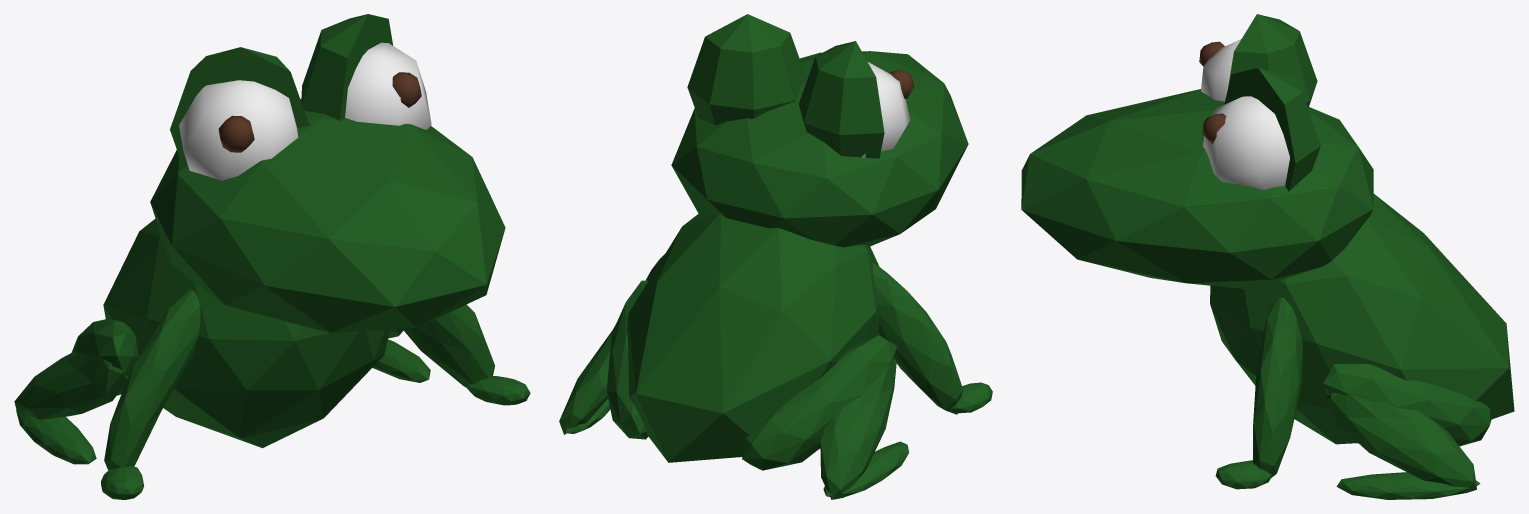
The model's file is moja stara.fbx.
3 views of the same model, side by side, from view 1: azimuth 30°, elevation 25°; view 2: azimuth 150°, elevation 25°; view 3: azimuth 270°, elevation 25° (orthographic). The views are drawn at different scales.
Parts seen in each view (by area): view 1: frog, eyes; view 2: frog, eyes; view 3: frog, eyes.
Part boxes in pixels (bbox=[...]): frog: bbox=[14, 14, 530, 499]; eyes: bbox=[179, 42, 431, 180]; frog: bbox=[559, 14, 992, 499]; eyes: bbox=[861, 62, 914, 158]; frog: bbox=[1021, 14, 1514, 499]; eyes: bbox=[1199, 39, 1289, 189].
Size of the model in its own units: 243 by 213 by 211.
